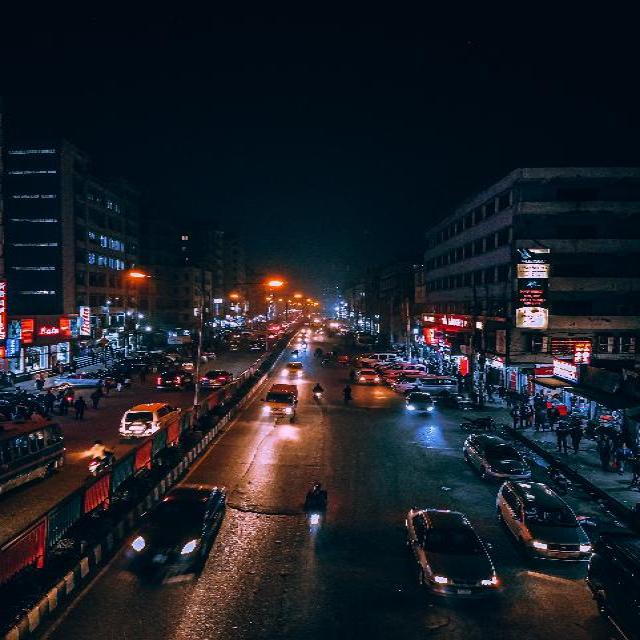bus: (0, 415, 68, 502)
car: (401, 506, 500, 604), (489, 477, 591, 569), (128, 479, 230, 566), (405, 388, 435, 420), (352, 366, 378, 388)
motorbike: (300, 479, 328, 537), (86, 436, 116, 482), (539, 456, 573, 494), (458, 415, 499, 433), (308, 381, 327, 405)
suv: (115, 398, 183, 446), (153, 368, 194, 392), (199, 367, 233, 391), (279, 360, 305, 380)
van: (258, 381, 300, 423)
